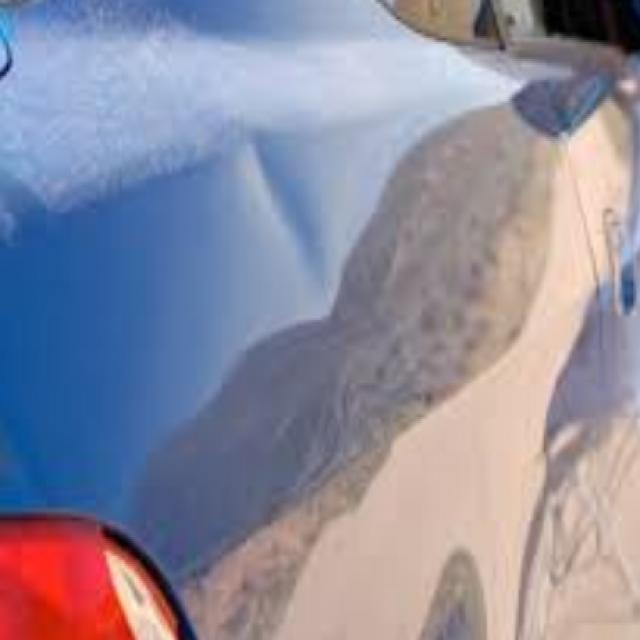dents: (225, 128, 372, 308)
